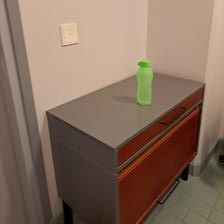bottle: (135, 57, 153, 104)
